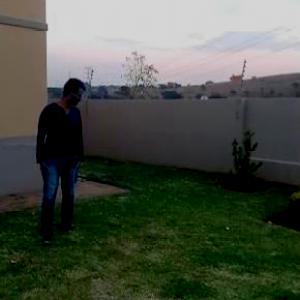follow: (29, 71, 88, 248)
